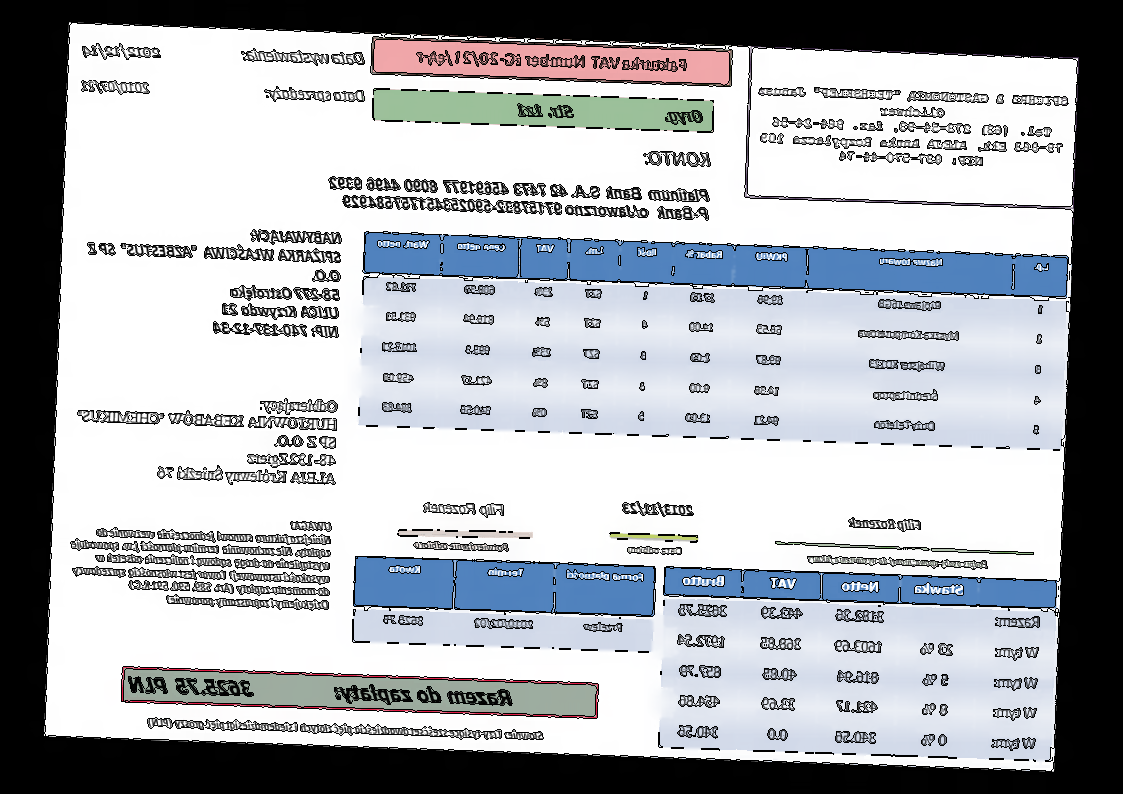Table: (356, 230, 1070, 451), (658, 565, 1060, 762), (350, 553, 657, 655)
TextBox: (81, 221, 344, 342), (756, 81, 1070, 173), (68, 510, 333, 612), (75, 390, 340, 487), (323, 173, 712, 226), (127, 671, 516, 711), (145, 715, 547, 745), (413, 45, 690, 77), (515, 100, 705, 127), (805, 551, 990, 571), (238, 45, 369, 68), (262, 85, 368, 107), (420, 497, 508, 519), (80, 41, 163, 62), (412, 539, 511, 555), (848, 513, 923, 534), (622, 499, 697, 520), (79, 76, 153, 97), (642, 149, 713, 170), (627, 542, 687, 559)
